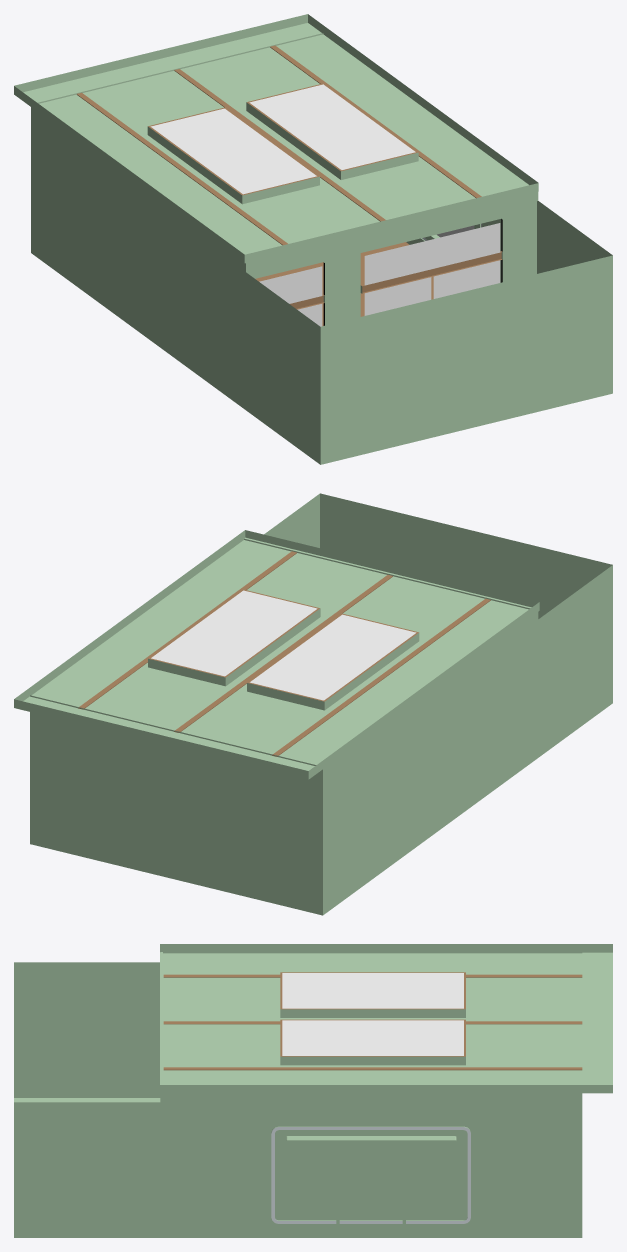
The model's file is Room.fbx.
The picture shows the model from 3 angles, top to bottom: view 1: azimuth 30°, elevation 25°; view 2: azimuth 150°, elevation 25°; view 3: azimuth 270°, elevation 25°; orthographic projection. The views are drawn at different scales.
Parts seen in each view (by area): view 1: Room; view 2: Room; view 3: Room.
Part boxes in pixels (bbox=[...]): Room: bbox=[14, 14, 612, 464]; Room: bbox=[14, 493, 612, 915]; Room: bbox=[14, 944, 612, 1237].
Size of the model in its own units: 702 by 346 by 1227.
